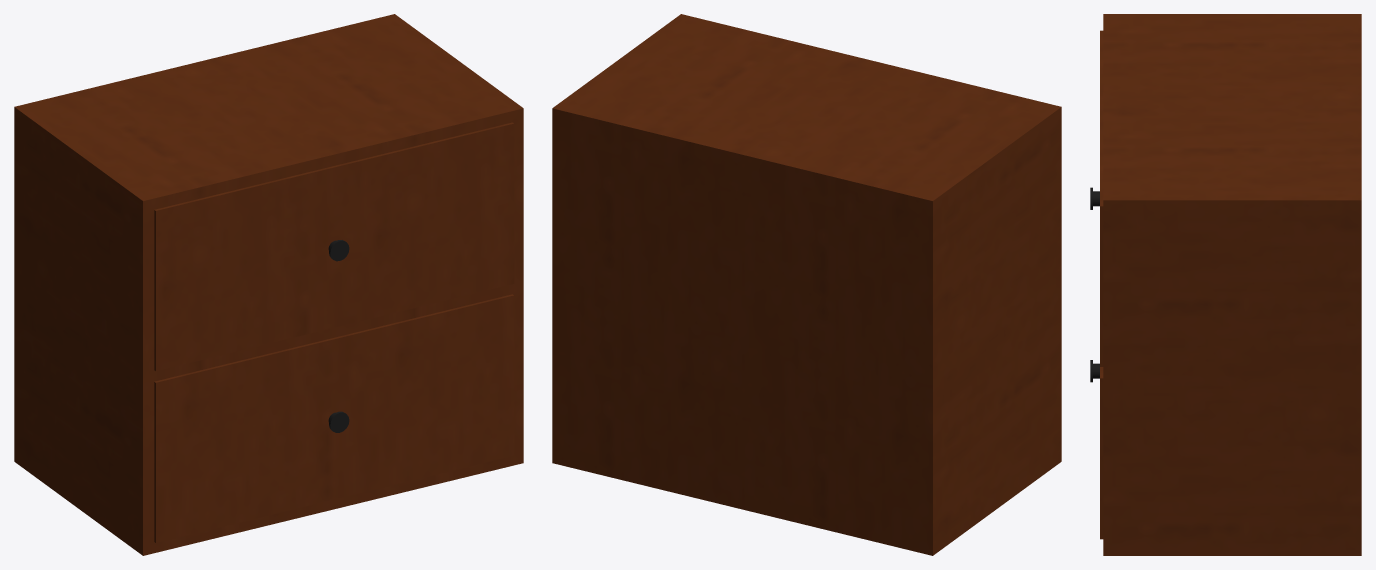
Rendered from livingroom_drawer_01.glb.
3 views of the same model, side by side, from view 1: azimuth 30°, elevation 25°; view 2: azimuth 150°, elevation 25°; view 3: azimuth 270°, elevation 25° (orthographic).
Parts seen in each view (by area): view 1: Drawer_Body10, Drawer10_1, Drawer10_2; view 2: Drawer_Body10; view 3: Drawer_Body10, Drawer10_1, Drawer10_2.
Part boxes in pixels (x1,y1,x2,y2): Drawer_Body10: (14,14,523,555); Drawer10_1: (154,122,514,370); Drawer10_2: (154,294,514,542); Drawer_Body10: (552,14,1061,555); Drawer_Body10: (1103,14,1361,555); Drawer10_1: (1090,30,1103,366); Drawer10_2: (1090,360,1103,539).
Bounding box in the file's own units: 0.499 × 0.4445 × 0.3075.
Materials: 1 (1 with a texture image).
